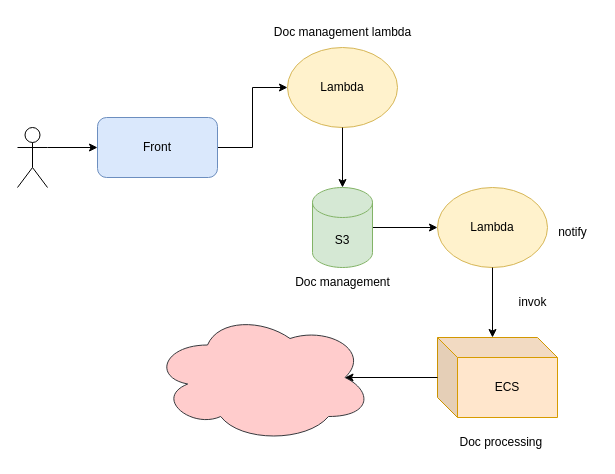
This 615x474 diagram has some shape labels left out. The centre of each missing label's shape, as x and y in pixels:
Actor: point (32, 157)
Data procesing task (Upload or delete docs): point (262, 377)
